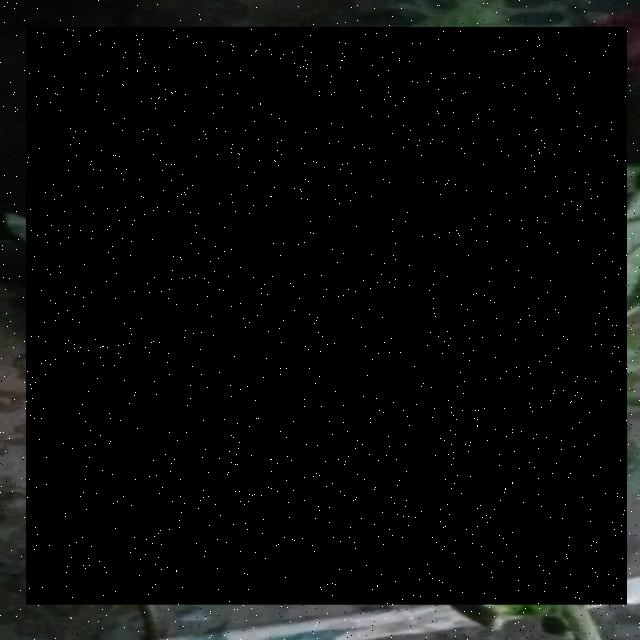Palungo: (27, 27, 628, 605)
